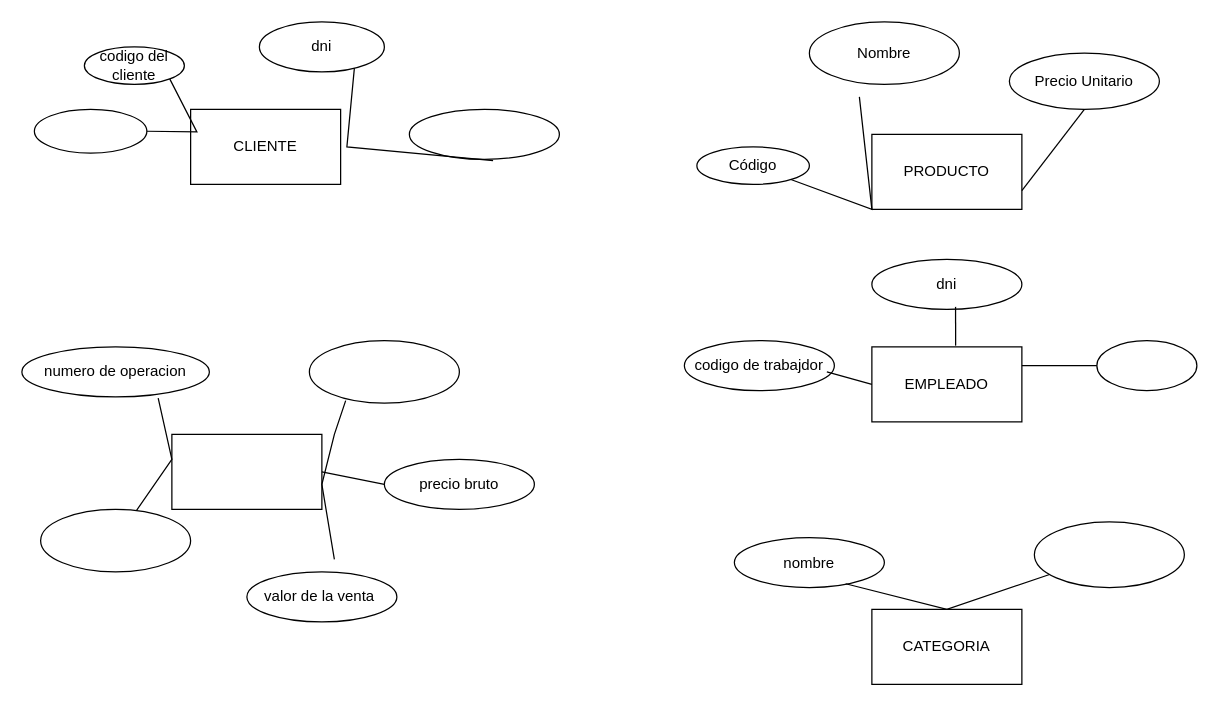
Image size: 1219x706. Some labels were removed from this diagram. Here are the shapes that lost their labels. From the top down, the box of each, then its label:
(33, 108, 147, 153): telefono
(408, 108, 559, 159): nombres
(308, 339, 459, 403): cantidades
(1096, 339, 1197, 391): cargo
(171, 433, 322, 509): VENTA
(39, 508, 191, 572): fecha y hora de venta
(1033, 521, 1184, 588): ID_Categoría
